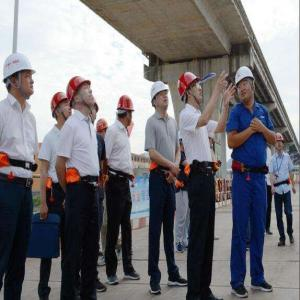red: (68, 75, 96, 113), (178, 70, 206, 108), (51, 92, 73, 123), (117, 94, 135, 128), (95, 117, 110, 138), (274, 132, 285, 154)
white: (3, 52, 36, 105), (235, 67, 257, 106), (150, 80, 171, 113)
